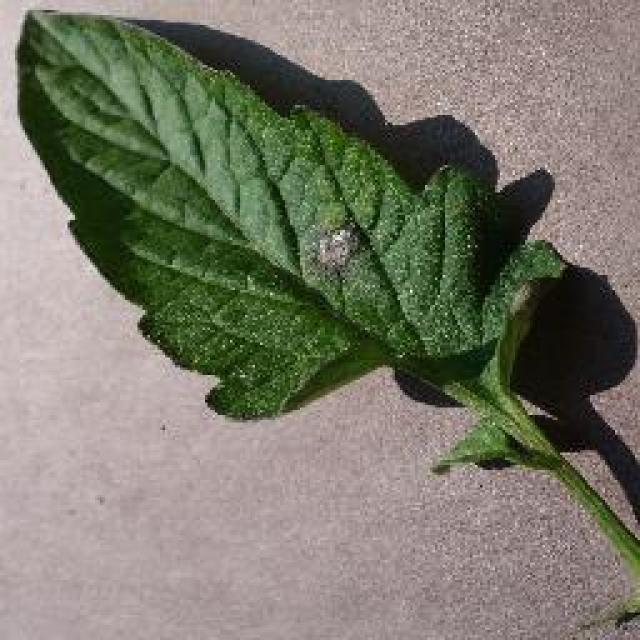leaf blight: (17, 14, 640, 574)
